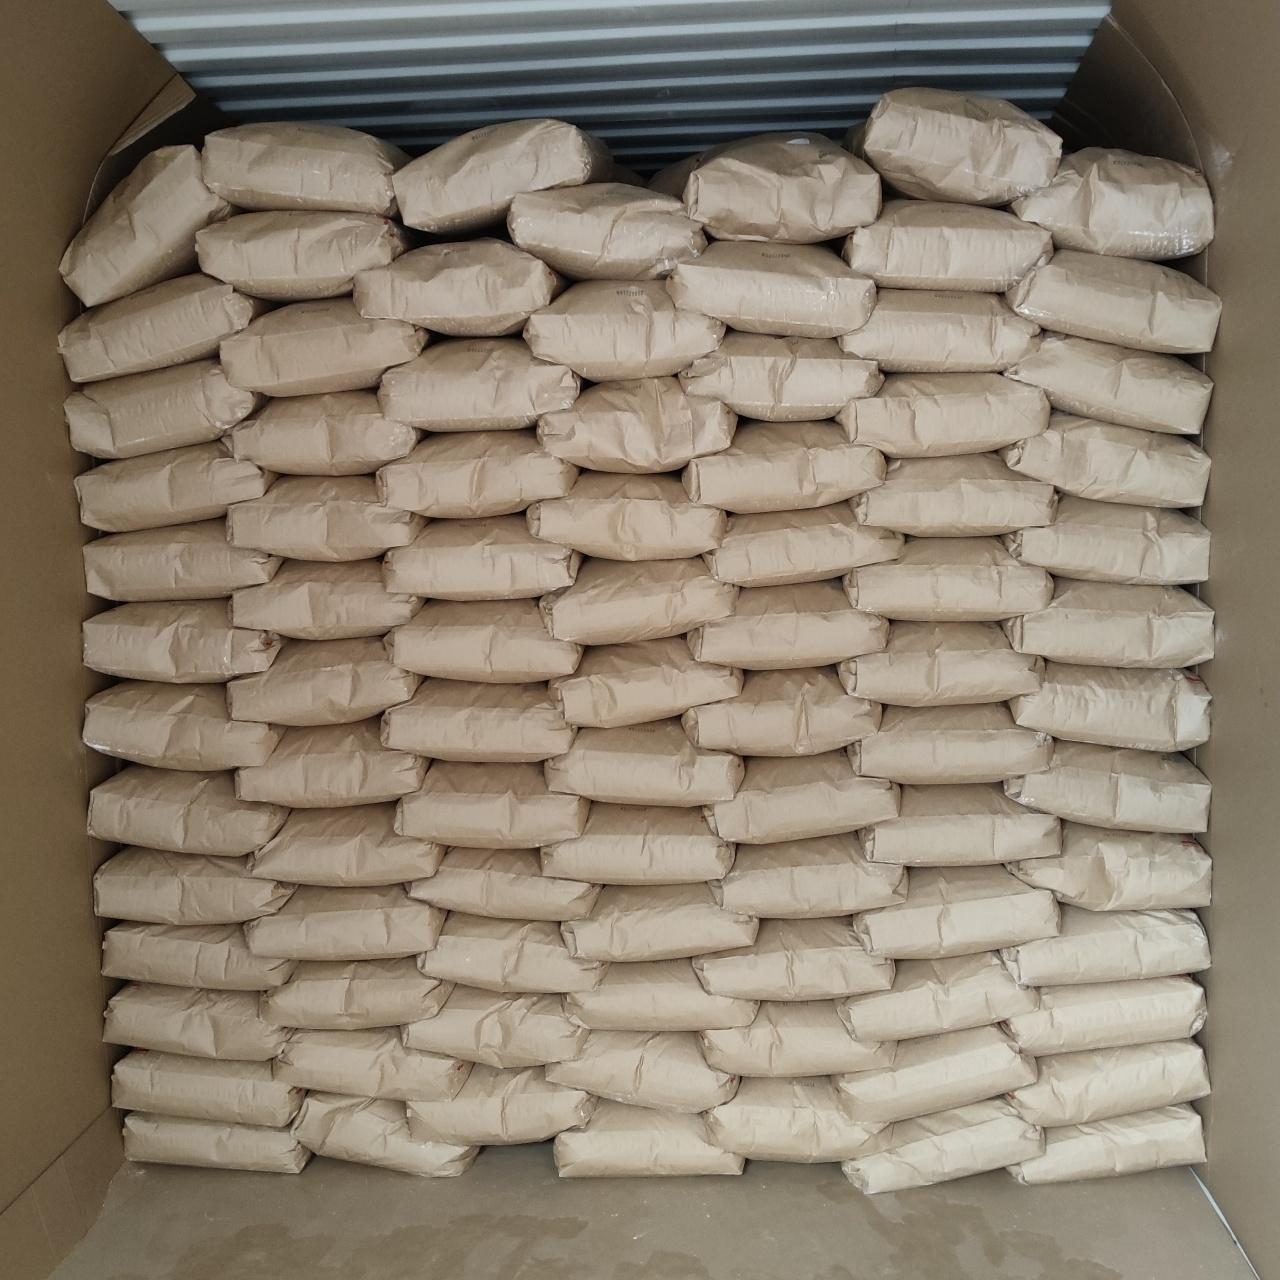sack: (62, 147, 232, 302), (394, 120, 618, 234), (846, 90, 1060, 204), (654, 134, 878, 240), (60, 274, 270, 382), (1010, 148, 1212, 258), (1008, 250, 1218, 350), (224, 298, 430, 396), (1006, 332, 1210, 430), (354, 240, 564, 334), (524, 282, 724, 380), (66, 358, 263, 456), (835, 1026, 1036, 1122), (1002, 411, 1206, 506), (842, 198, 1051, 290), (508, 182, 704, 278), (668, 241, 872, 334), (380, 338, 580, 430), (198, 212, 408, 300), (202, 124, 406, 215), (538, 377, 734, 470), (842, 1099, 1042, 1190), (1006, 742, 1208, 830), (855, 869, 1054, 958), (1008, 822, 1210, 910), (680, 332, 880, 420), (685, 422, 884, 510), (1005, 496, 1206, 583), (1005, 580, 1214, 663), (90, 765, 286, 855), (1010, 662, 1208, 750), (79, 442, 275, 530), (1008, 1040, 1206, 1126), (844, 538, 1051, 620), (840, 952, 1036, 1039), (527, 472, 726, 558), (688, 583, 886, 668), (550, 638, 742, 726), (84, 682, 280, 768), (706, 753, 896, 840), (236, 720, 428, 806), (230, 638, 422, 724), (685, 668, 878, 754), (838, 374, 1046, 454), (546, 720, 742, 804), (542, 558, 734, 644), (377, 433, 574, 516), (852, 454, 1054, 535), (840, 290, 1039, 372), (396, 762, 588, 846), (706, 504, 903, 586), (224, 392, 420, 474), (838, 624, 1042, 702), (1002, 904, 1206, 982), (84, 600, 284, 680), (384, 516, 578, 598), (229, 476, 422, 558), (847, 704, 1051, 782), (712, 835, 906, 915), (696, 918, 892, 998), (386, 600, 580, 680), (1005, 976, 1204, 1054), (250, 804, 442, 884), (544, 804, 734, 884), (382, 680, 574, 758), (84, 520, 278, 598), (860, 787, 1060, 862), (96, 847, 294, 922), (549, 1032, 736, 1110), (294, 1094, 476, 1175), (232, 560, 422, 638), (1008, 1107, 1204, 1182), (702, 1000, 894, 1076), (114, 1050, 302, 1126), (561, 884, 756, 958), (408, 1065, 595, 1142), (402, 986, 584, 1064), (706, 1078, 884, 1158), (246, 886, 444, 958), (418, 914, 602, 990), (556, 1099, 742, 1175), (105, 983, 288, 1060), (275, 1028, 470, 1098), (408, 847, 598, 918), (566, 960, 756, 1030), (264, 958, 452, 1028), (102, 924, 294, 988), (124, 1112, 309, 1172)
